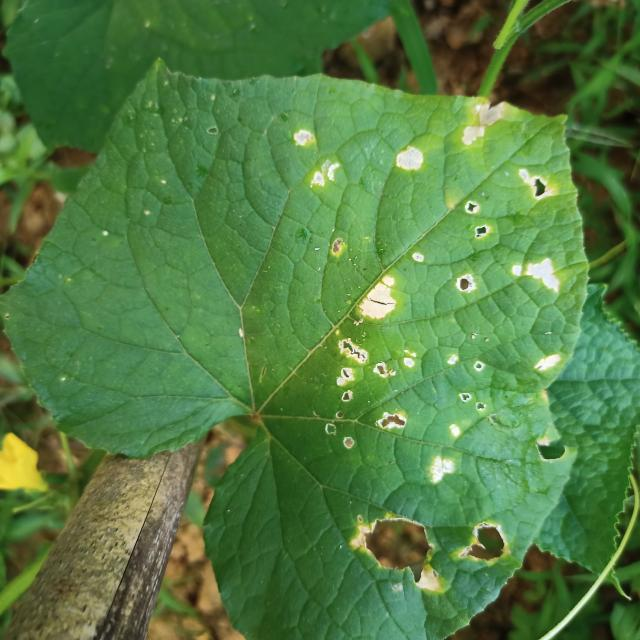disease_cucumber: (322, 334, 427, 454), (351, 506, 448, 594), (289, 129, 347, 192), (506, 251, 563, 301), (351, 273, 402, 327), (461, 516, 508, 568), (458, 100, 502, 146), (513, 163, 554, 203), (460, 200, 492, 246), (426, 450, 458, 488), (391, 144, 426, 176), (450, 268, 478, 298), (534, 347, 559, 374)
